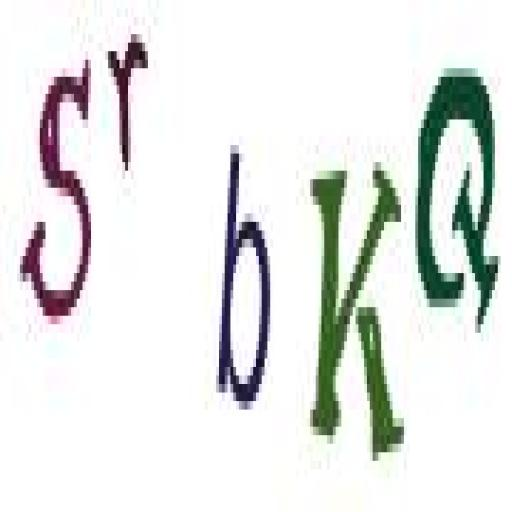K: (307, 140, 411, 473)
Q: (414, 49, 503, 343)
S: (20, 62, 98, 336)
b: (213, 130, 274, 421)
r: (102, 35, 153, 181)
